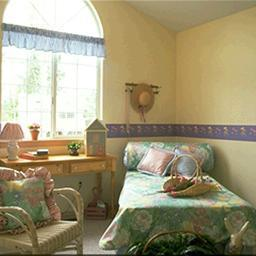Cama: (124, 146, 252, 219)
